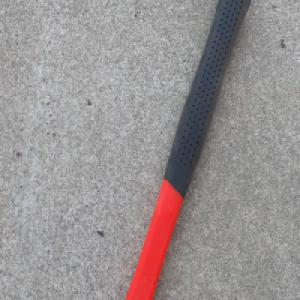Hammer: (123, 0, 250, 300)
